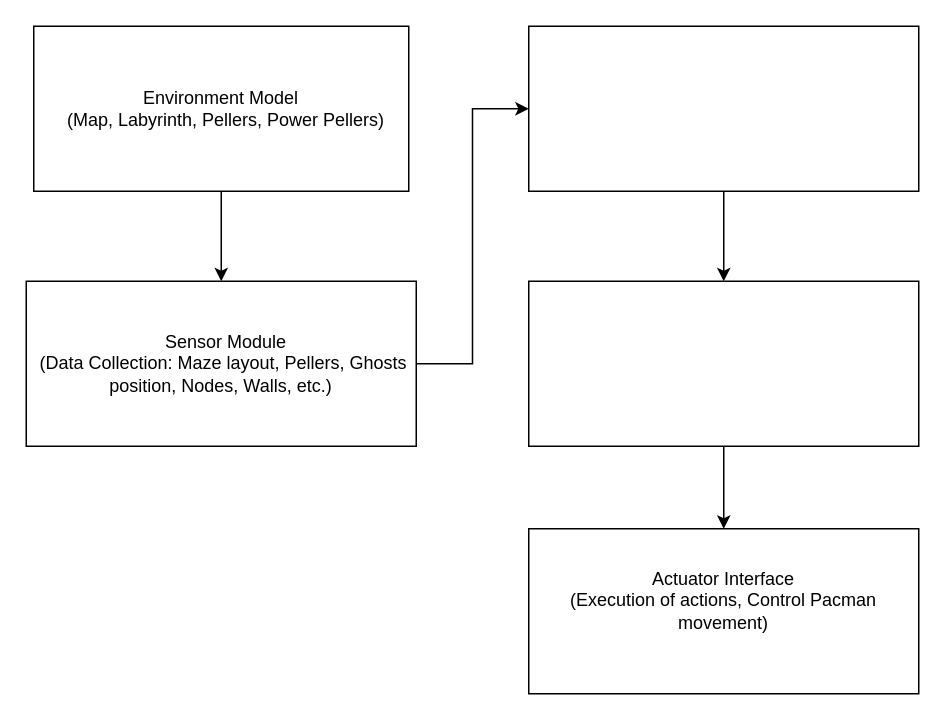
This 945x720 diagram has some shape labels left out. Here are the shapes that lost their labels. From the top down, the box of each, then its label:
(527, 25, 919, 191): RL Core Module (Deep Reinforcement Learning algorithms, DQN)
(527, 280, 919, 446): Decision-Making Unit ( Action Selection, Strategy, a daptation based on learned)
